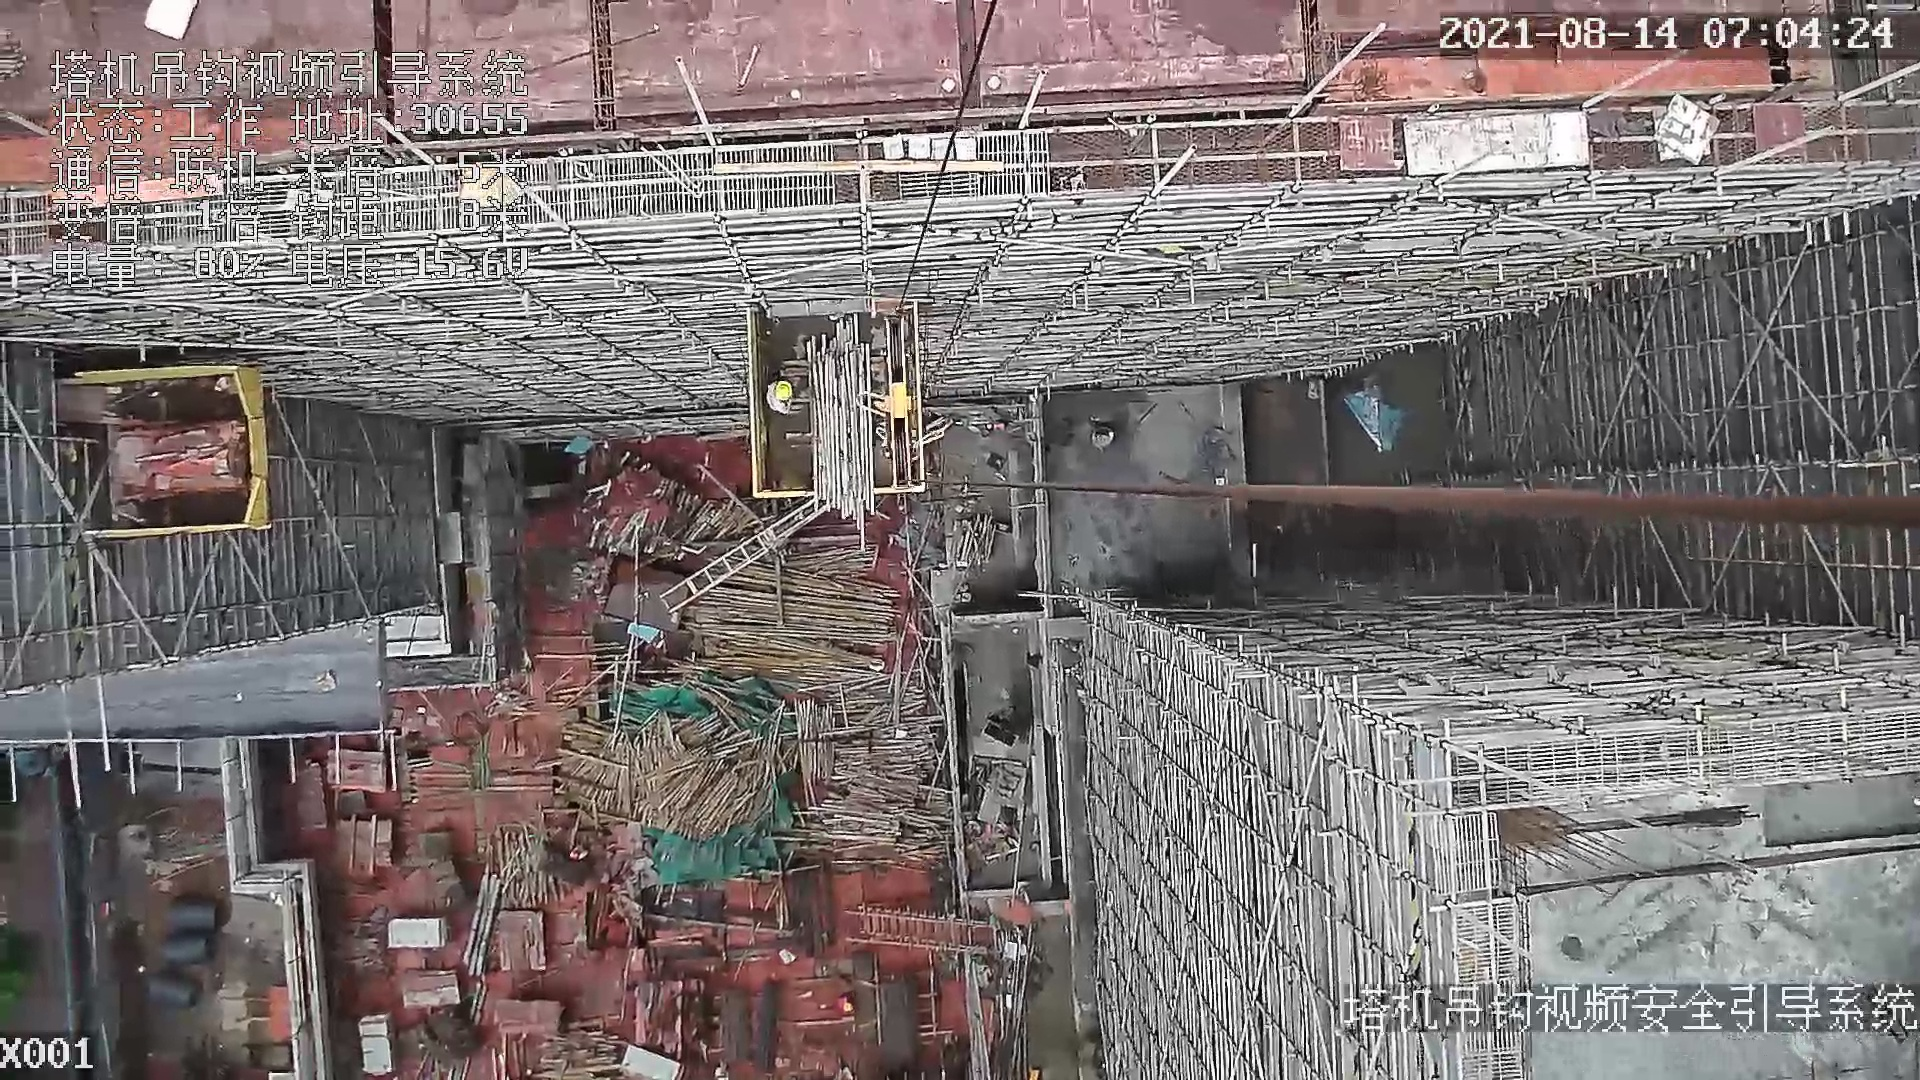hook: (876, 292, 937, 492)
person: (763, 373, 801, 421)
